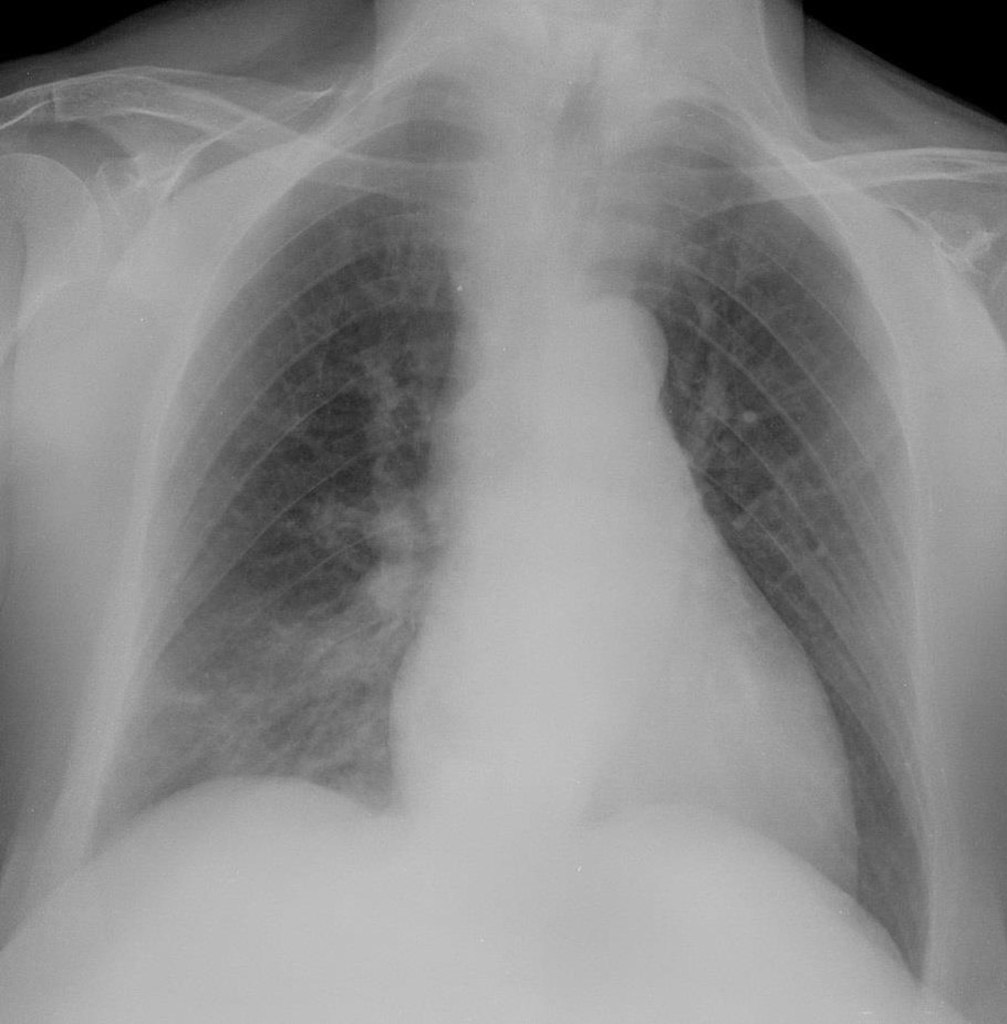Mildw: (611, 104, 921, 967), (87, 125, 473, 804)
